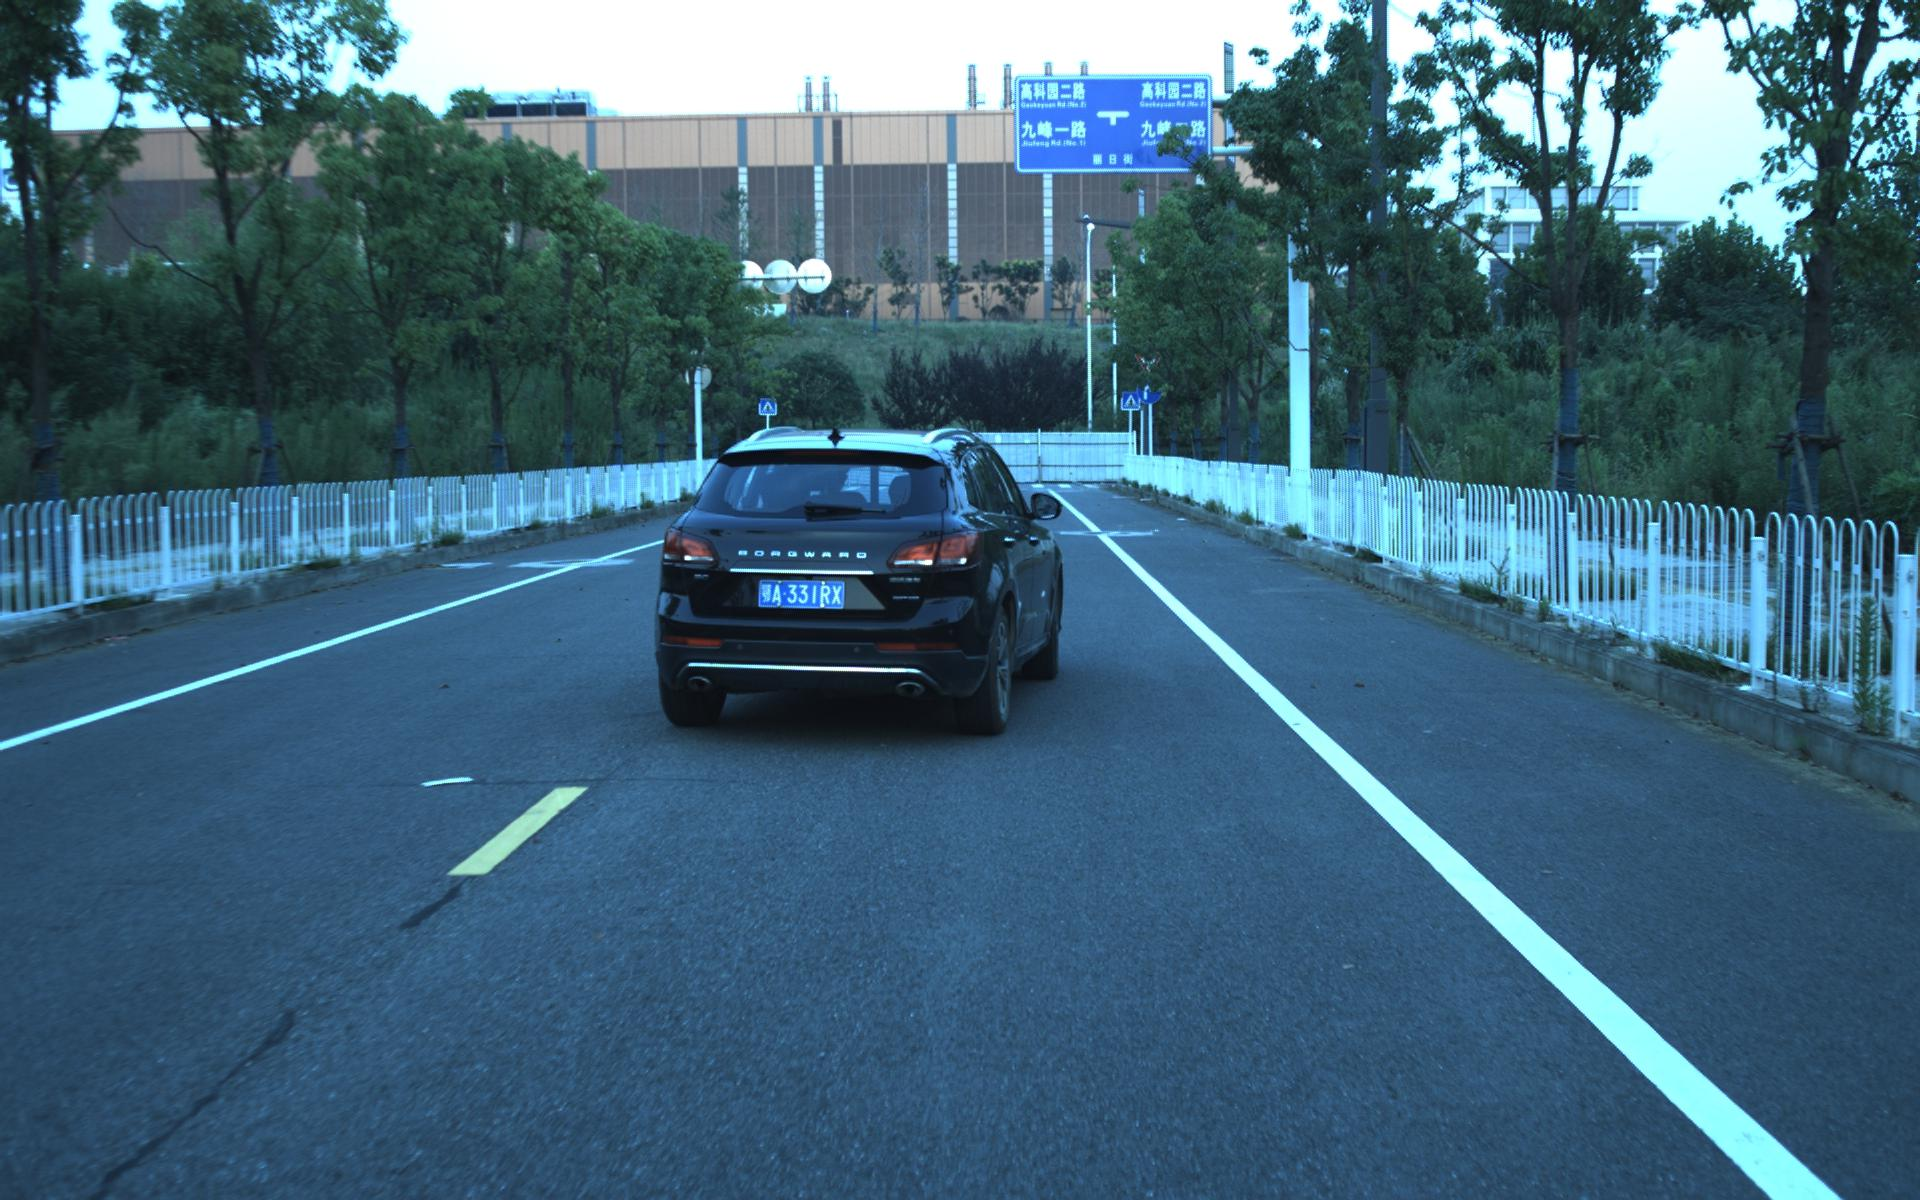Car: (641, 415, 1069, 745)
